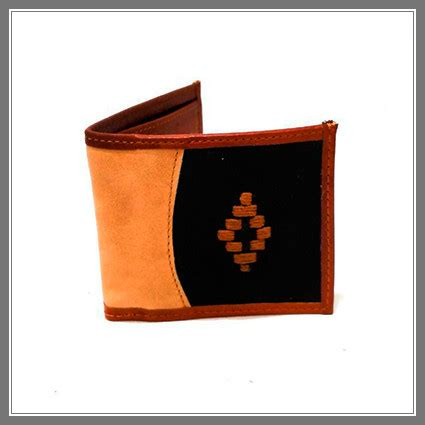gamuza: (84, 140, 327, 311)
